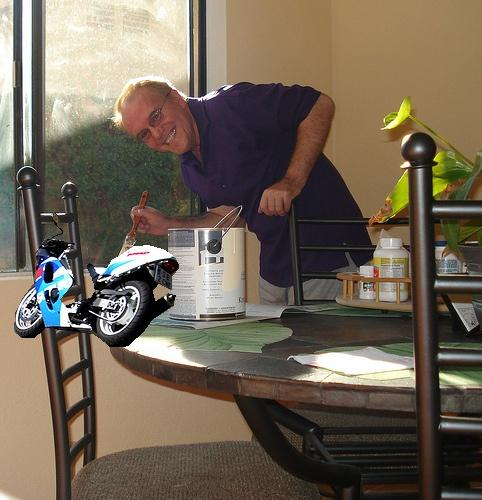tampered: (15, 213, 179, 347)
